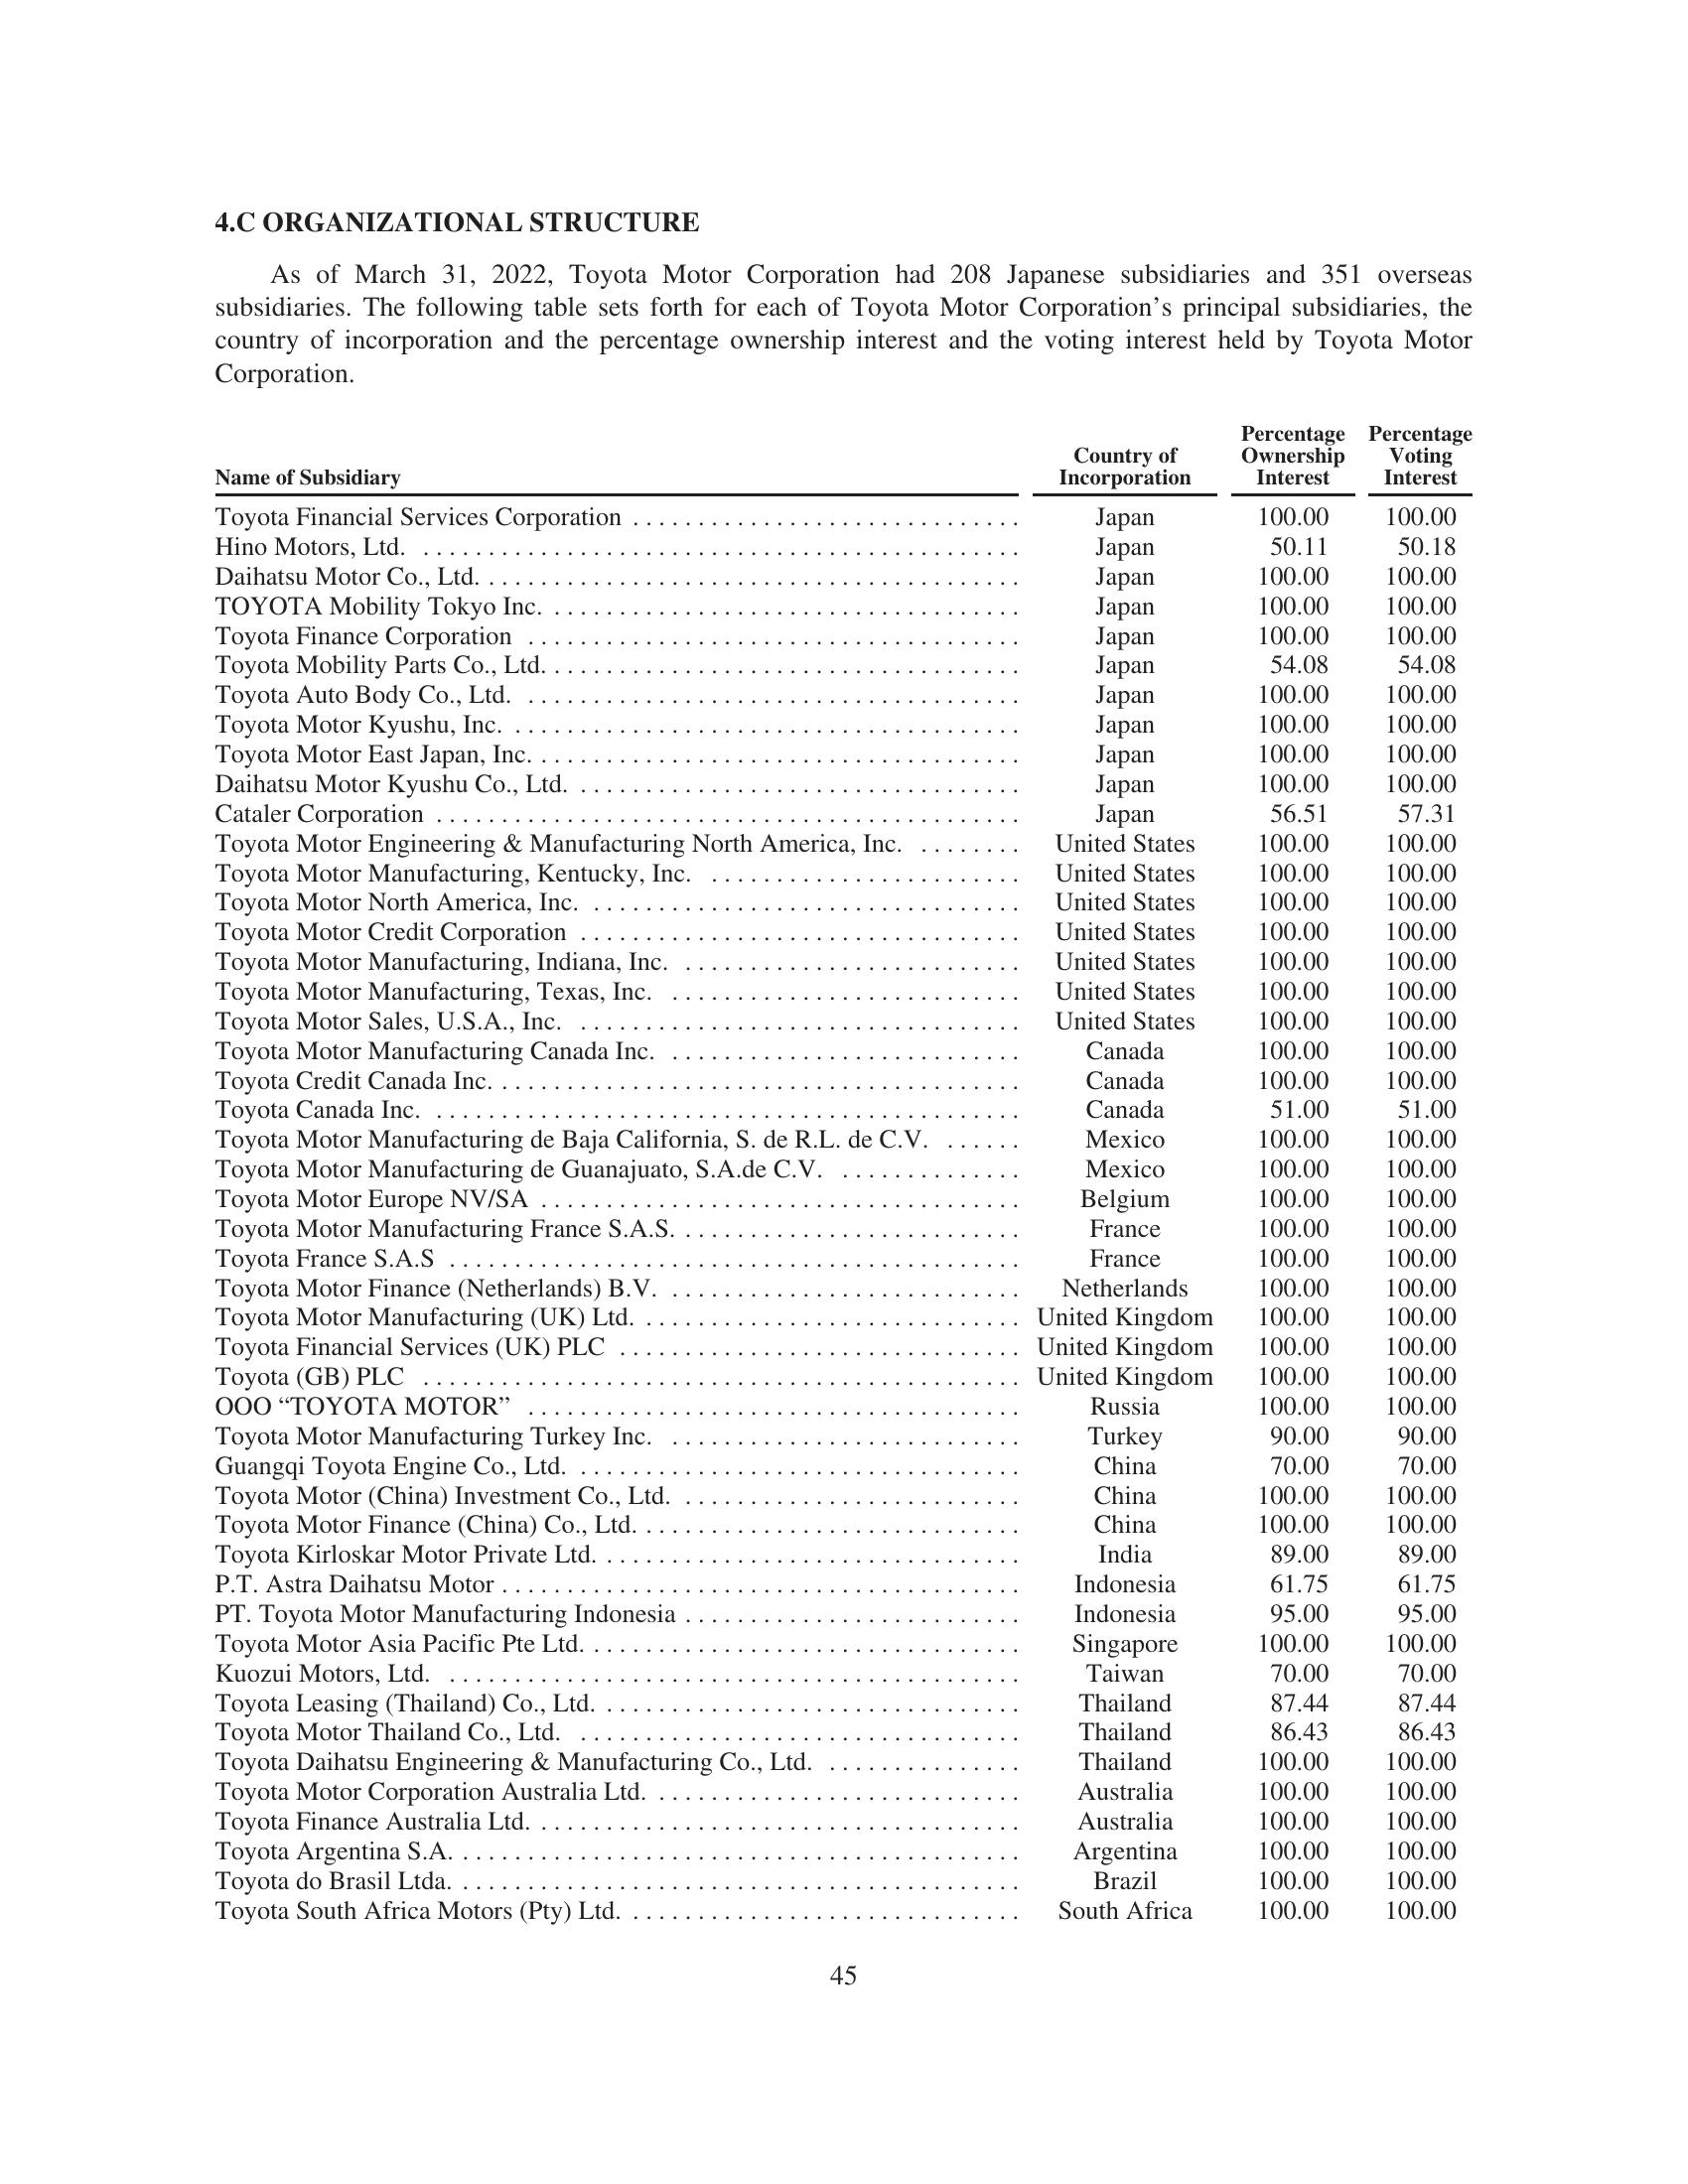Footer: (0, 1954, 1688, 2184)
Header: (0, 0, 1688, 183)
Table: (184, 404, 1512, 1941)
